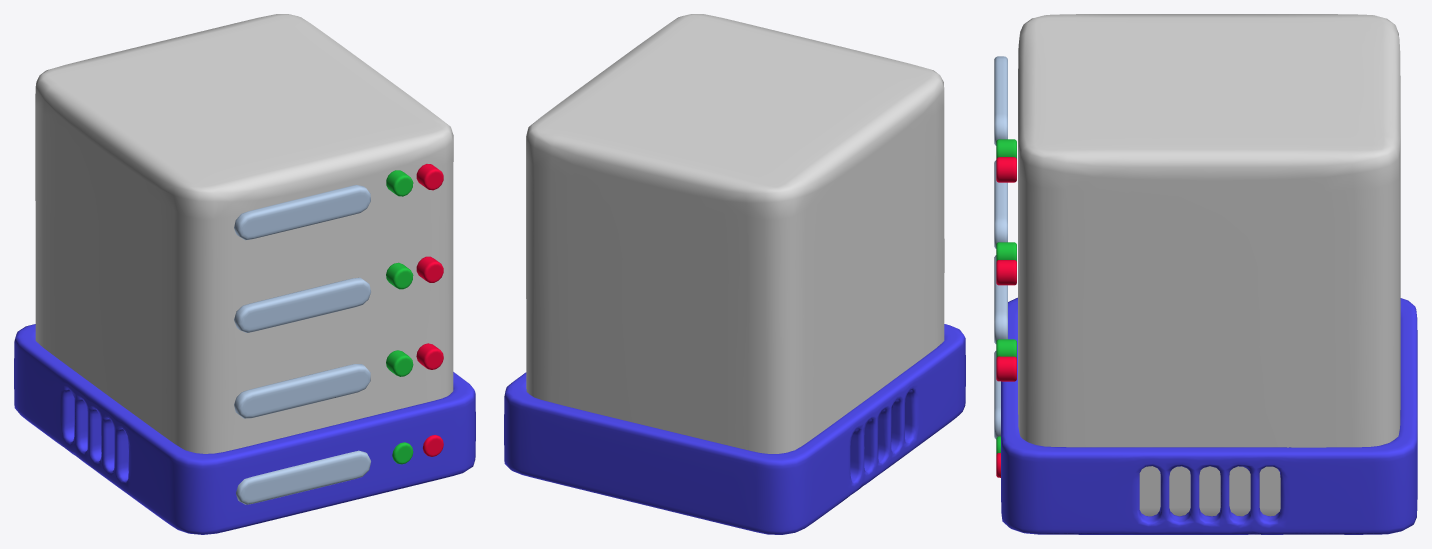
Rendered from Data_Center.glb.
The picture shows the model from 3 angles, left to right: view 1: azimuth 30°, elevation 25°; view 2: azimuth 150°, elevation 25°; view 3: azimuth 270°, elevation 25°; orthographic projection. The views are drawn at different scales.
Visible parts, largest first — view 1: Retopo_Plane.048, Retopo_Plane.001, Retopo_Circle.064, Retopo_Cylinder.026, Retopo_Cylinder.030; view 2: Retopo_Plane.048, Retopo_Plane.001; view 3: Retopo_Plane.048, Retopo_Plane.001, Retopo_Circle.064, Retopo_Cylinder.026, Retopo_Cylinder.030.
Part boxes in pixels (box(x1,y1,x2,y2)): Retopo_Plane.048: box(35, 14, 453, 453); Retopo_Plane.001: box(14, 324, 475, 534); Retopo_Circle.064: box(234, 185, 370, 504); Retopo_Cylinder.026: box(416, 164, 443, 456); Retopo_Cylinder.030: box(386, 170, 413, 464); Retopo_Plane.048: box(526, 14, 944, 453); Retopo_Plane.001: box(504, 324, 965, 534); Retopo_Plane.048: box(1018, 14, 1400, 516); Retopo_Plane.001: box(1001, 297, 1417, 534); Retopo_Circle.064: box(994, 56, 1007, 439); Retopo_Cylinder.026: box(996, 157, 1016, 477); Retopo_Cylinder.030: box(996, 139, 1016, 454).
Bounding box in the file's own units: 28.77 × 30.95 × 31.91.
